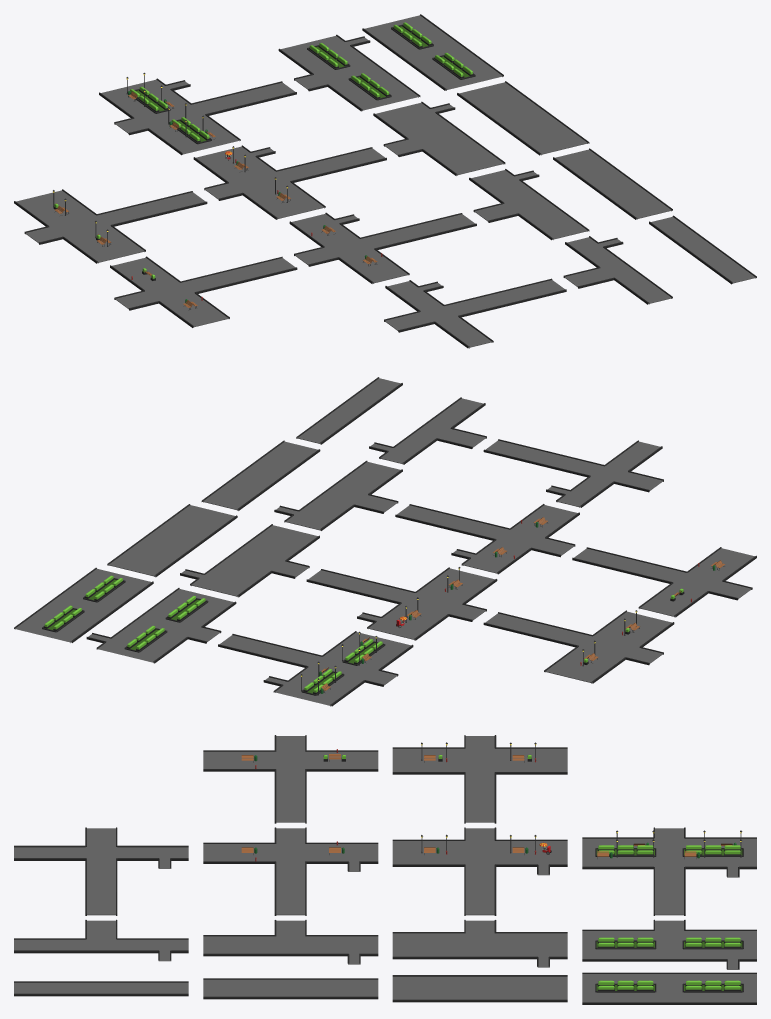
File: street (4).fbx
The picture shows the model from 3 angles, top to bottom: view 1: azimuth 30°, elevation 25°; view 2: azimuth 150°, elevation 25°; view 3: azimuth 270°, elevation 25°; orthographic projection. The views are drawn at different scales.
Parts seen in each view (by area): view 1: ROAD3, ROAD3.003, ROAD4, ROAD2, ROAD2.003, ROAD1, ROAD3.001, ROAD4.001, ROAD3.002, ROAD4.002, ROAD2.001, ROAD2.002 (+2 smaller); view 2: ROAD3, ROAD3.003, ROAD4, ROAD2, ROAD2.003, ROAD1, ROAD3.001, ROAD4.001, ROAD3.002, ROAD4.002, ROAD2.001, ROAD2.002 (+2 smaller); view 3: ROAD3, ROAD3.003, ROAD4, ROAD2, ROAD2.003, ROAD3.001, ROAD1, ROAD4.001, ROAD3.002, ROAD4.002, ROAD2.001, ROAD2.002 (+9 smaller).
Part boxes in pixels (<box>): ROAD3: <box>193,145,386,219</box>; ROAD3.003: <box>14,189,207,263</box>; ROAD4: <box>99,78,296,155</box>; ROAD2: <box>289,212,476,283</box>; ROAD2.003: <box>110,256,297,327</box>; ROAD1: <box>384,278,566,348</box>; ROAD3.001: <box>373,101,505,175</box>; ROAD4.001: <box>278,34,420,111</box>; ROAD3.002: <box>457,81,589,155</box>; ROAD4.002: <box>362,14,503,90</box>; ROAD2.001: <box>469,169,589,240</box>; ROAD2.002: <box>553,148,672,219</box>; ROAD3: <box>306,567,497,640</box>; ROAD3.003: <box>483,610,674,683</box>; ROAD4: <box>218,631,413,706</box>; ROAD2: <box>395,504,579,574</box>; ROAD2.003: <box>572,547,756,617</box>; ROAD1: <box>483,439,663,507</box>; ROAD3.001: <box>180,524,319,597</box>; ROAD4.001: <box>86,588,236,663</box>; ROAD3.002: <box>107,504,237,577</box>; ROAD4.002: <box>14,567,153,642</box>; ROAD2.001: <box>274,460,402,530</box>; ROAD2.002: <box>201,440,320,510</box>; ROAD3: <box>392,827,567,915</box>; ROAD3.003: <box>392,735,567,823</box>; ROAD4: <box>582,827,756,915</box>; ROAD2: <box>203,827,378,915</box>; ROAD2.003: <box>203,735,378,823</box>; ROAD3.001: <box>392,920,567,967</box>; ROAD1: <box>14,827,188,915</box>; ROAD4.001: <box>582,919,756,969</box>; ROAD3.002: <box>392,975,567,1002</box>; ROAD4.002: <box>582,972,756,1004</box>; ROAD2.001: <box>203,920,378,964</box>; ROAD2.002: <box>203,978,378,999</box>.
Size of the model in its own units: 4345 by 150 by 5100.
